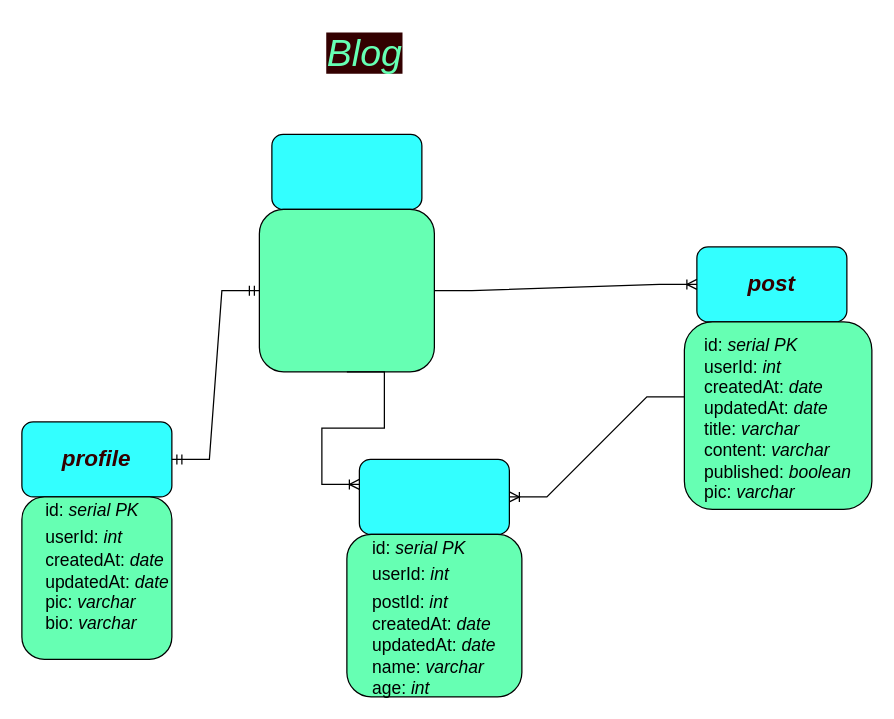
Image size: 894x719. Some labels were removed from this diagram. The centre of each missing label's shape, as x and y in pixels:
"comment" goes at point 433,496.
"id: serial PK createdAt: date updatedAt: date email: varchar username: varchar" goes at point 346,290.
"user" goes at point 346,171.
